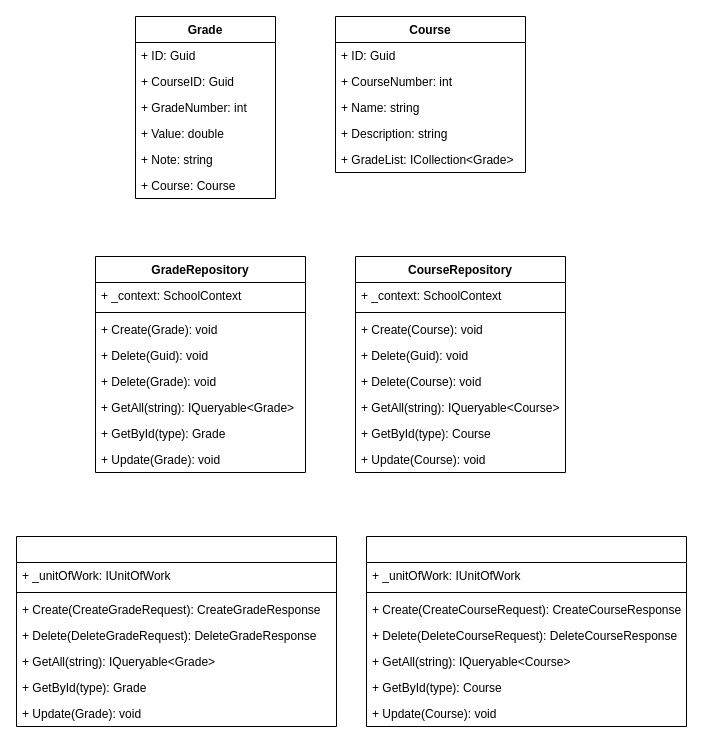
This 703x743 diagram has some shape labels left out. The shapes that lost their labels are listed below. From the top down, each one's box as (x1, y1, x2, y2) in pixels, then its label:
(16, 536, 336, 726): GradeService
(366, 536, 686, 726): CourseService
